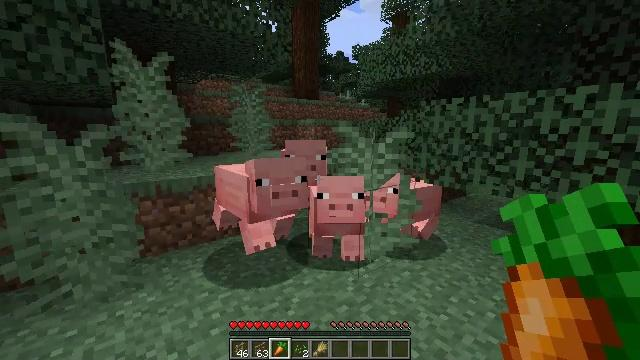pig: (215, 158, 308, 247), (311, 177, 372, 262), (372, 178, 445, 242), (279, 138, 327, 175)
